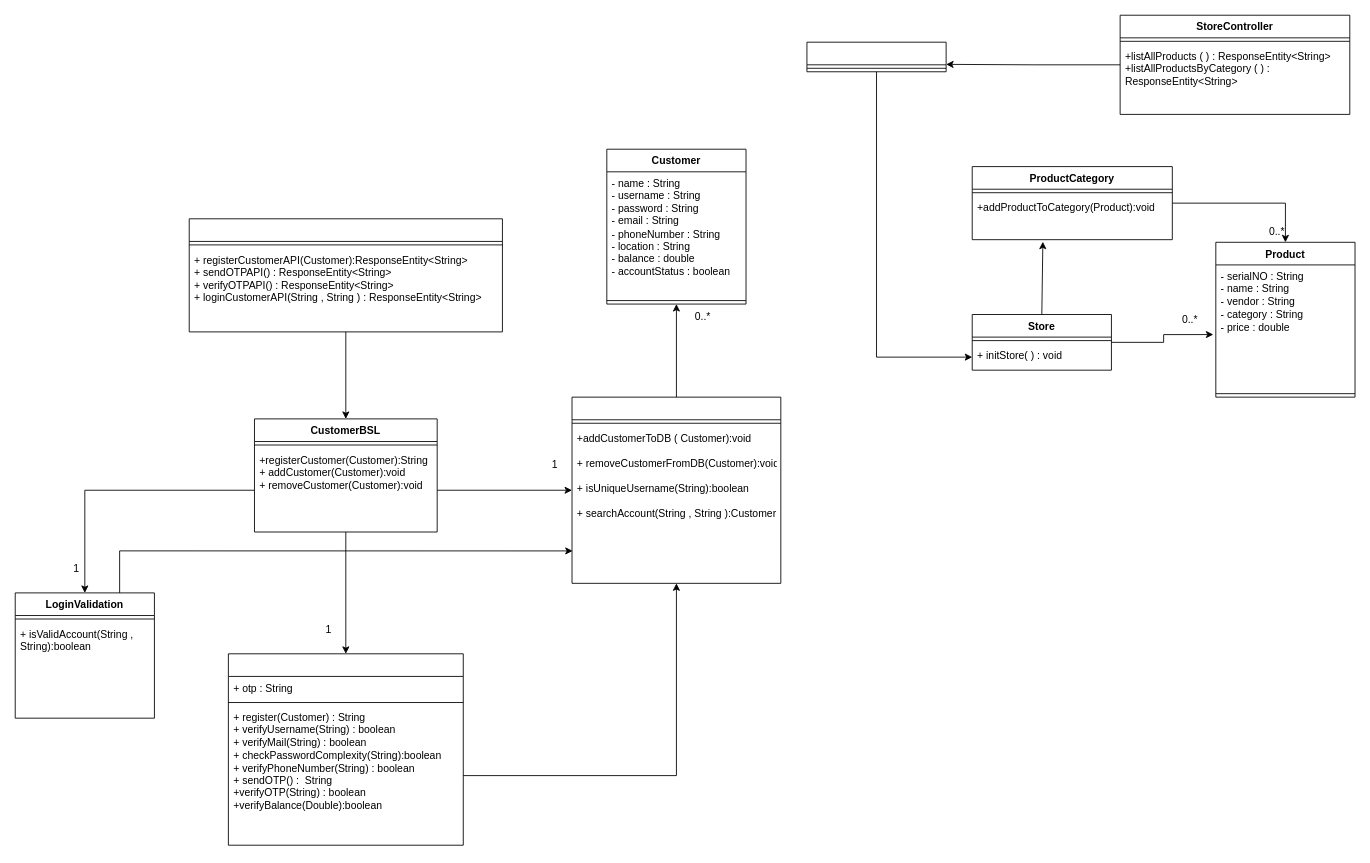
This 1370x863 diagram has some shape labels left out. The shapes that lost their labels are listed below. From the top down, each one's box as (x1, y1, x2, y2) in pixels, then its label:
(806, 41, 946, 72): StoreBSL
(188, 218, 502, 332): CustomerController
(571, 396, 781, 583): CustomerDatabase
(228, 653, 463, 845): RegisterationValidation
